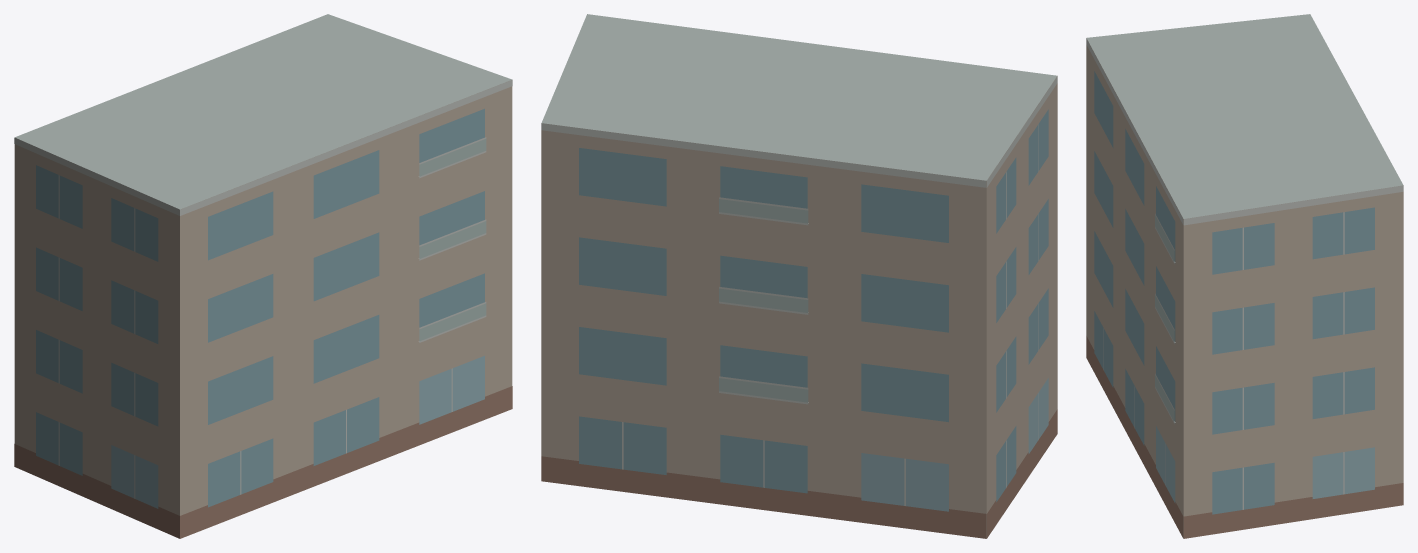
The model's file is survey-upis-32597654.glb.
3 renders of one model, left to right at view 1: azimuth 30°, elevation 25°; view 2: azimuth 150°, elevation 25°; view 3: azimuth 270°, elevation 25°, orthographic. The views are drawn at different scales.
Parts seen in each view (by area): view 1: survey-upis-32597654.tmp; view 2: survey-upis-32597654.tmp; view 3: survey-upis-32597654.tmp.
Part boxes in pixels (<box>): survey-upis-32597654.tmp: <box>14,14,512,538</box>; survey-upis-32597654.tmp: <box>541,14,1057,538</box>; survey-upis-32597654.tmp: <box>1086,14,1403,538</box>.
Bounding box in the file's own units: 16.79 × 12.2 × 10.98.
